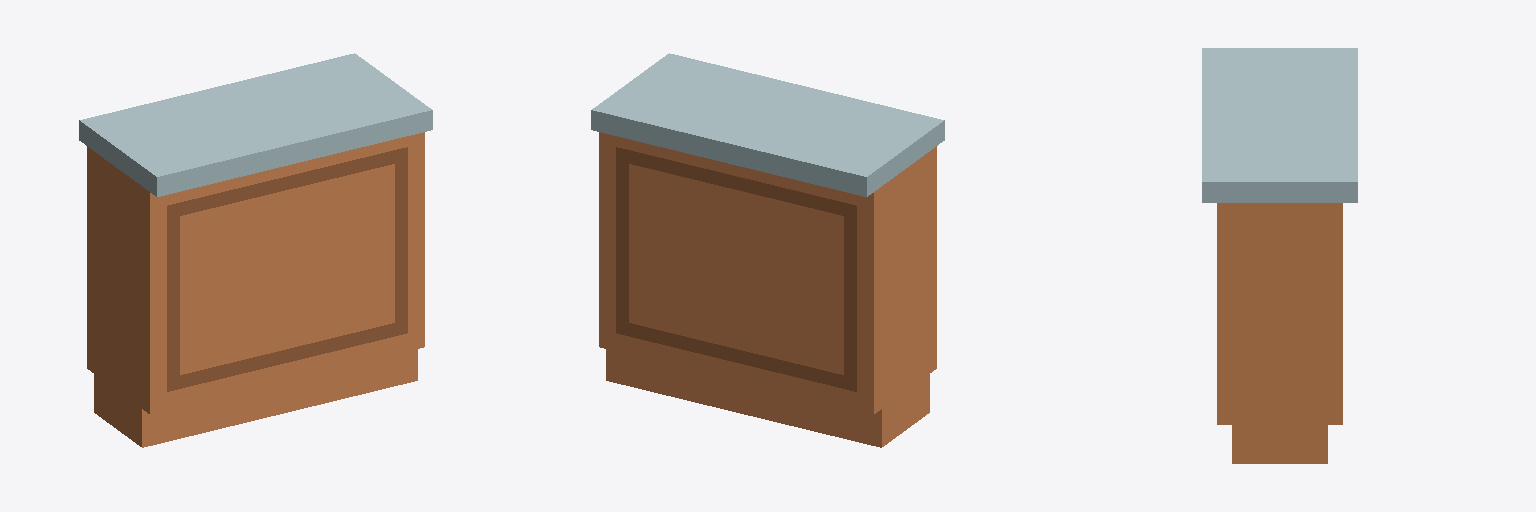
Rendered from kichen.obj.
The picture shows the model from 3 angles: view 1: azimuth 30°, elevation 25°; view 2: azimuth 150°, elevation 25°; view 3: azimuth 270°, elevation 25°; orthographic projection.
Visible parts, largest first — view 1: kitchenBar; view 2: kitchenBar; view 3: kitchenBar.
Boxes of the visible parts, <box> form: kitchenBar: <box>79,53,432,447</box>; kitchenBar: <box>591,53,944,447</box>; kitchenBar: <box>1202,48,1357,463</box>.
Size of the model in its own units: 0.43 by 0.42 by 0.21.